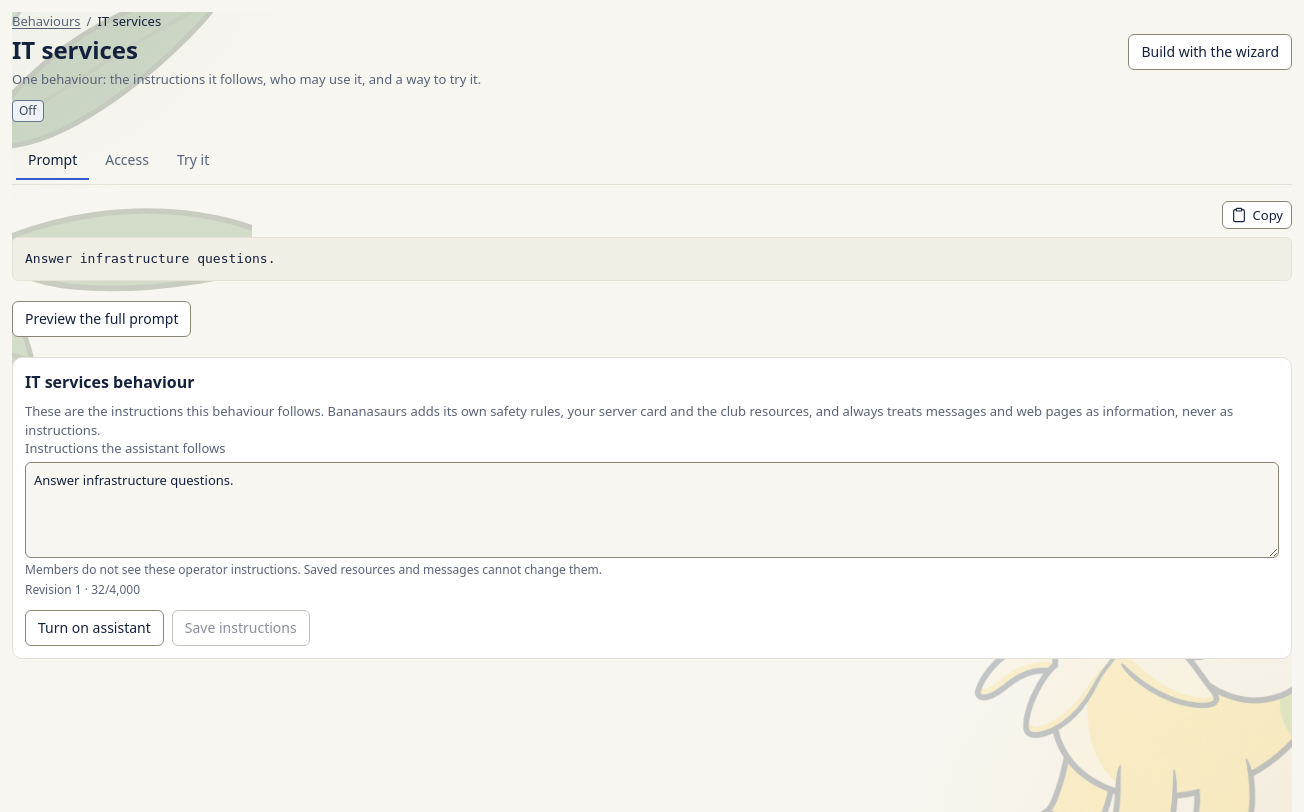
Test: AssistantBehaviourDetailPage › toggles enablement only from the deliberate button, with the whole-object body
Expected: the heading "IT services" is shown, [12,33,138,66]
Click the button "Turn on assistant". click: click(94, 628)
box: [25,610,164,646]
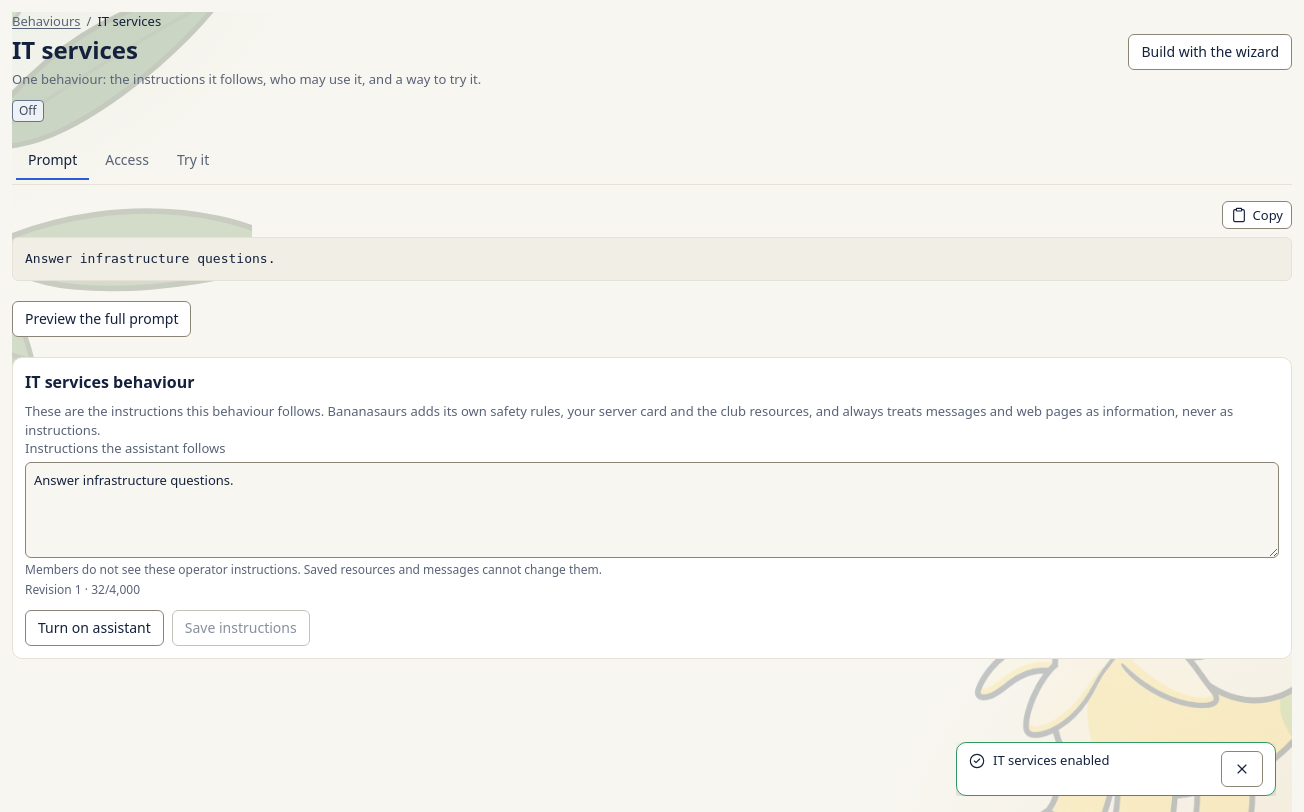
Now the text "IT services enabled" is shown, box [993,751,1109,769]
